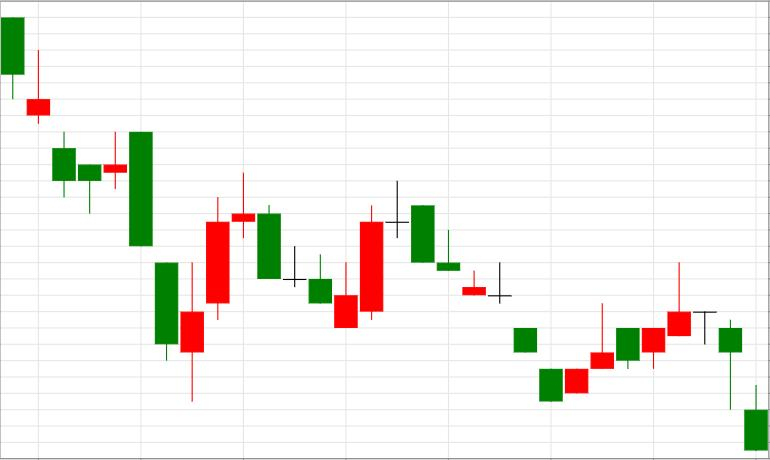evening_star_fall: (155, 173, 281, 402)
shooting_star_fall: (565, 262, 691, 394)
